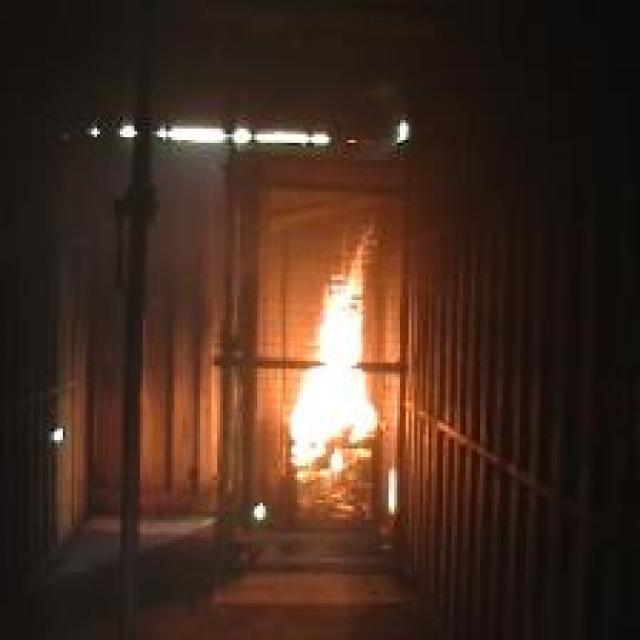Fire: (286, 213, 380, 482)
